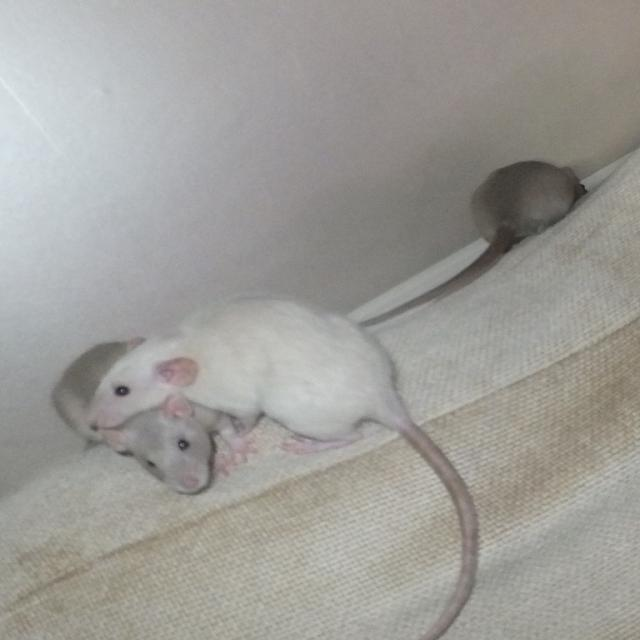rat: (88, 292, 482, 640), (370, 163, 584, 326), (46, 338, 234, 496)
